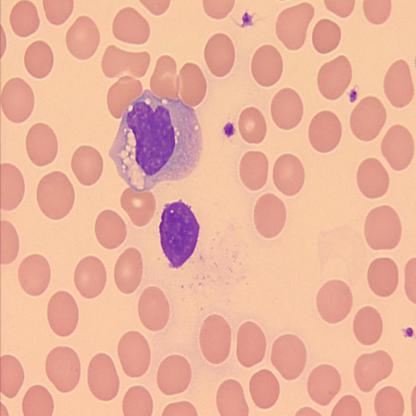Monocyte: (106, 85, 206, 194)
